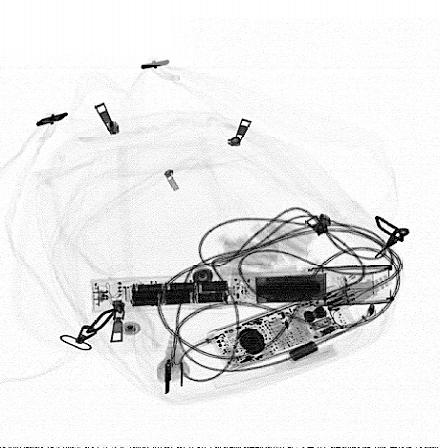Baton: (89, 264, 396, 314)
